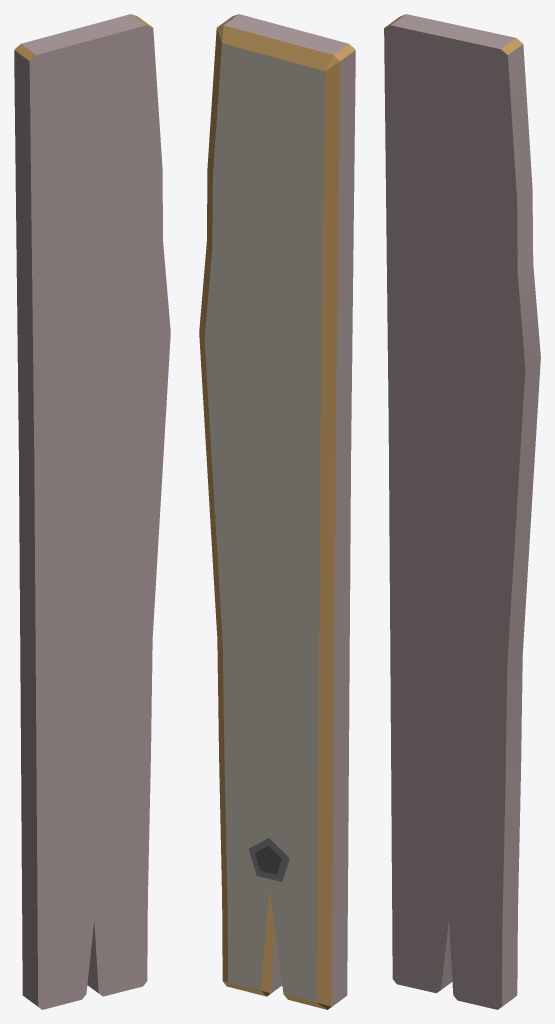
Rendered from WoodBoardA.fbx.
3 views of the same model, side by side, from view 1: azimuth 30°, elevation 25°; view 2: azimuth 150°, elevation 25°; view 3: azimuth 330°, elevation 25° (orthographic).
Parts seen in each view (by area): view 1: WoodBoardA; view 2: WoodBoardA; view 3: WoodBoardA.
Part boxes in pixels (bbox=[...]): WoodBoardA: bbox=[14, 14, 170, 1009]; WoodBoardA: bbox=[199, 14, 355, 1009]; WoodBoardA: bbox=[384, 14, 540, 1009].
Size of the model in its own units: 57.52 by 374 by 14.97.
